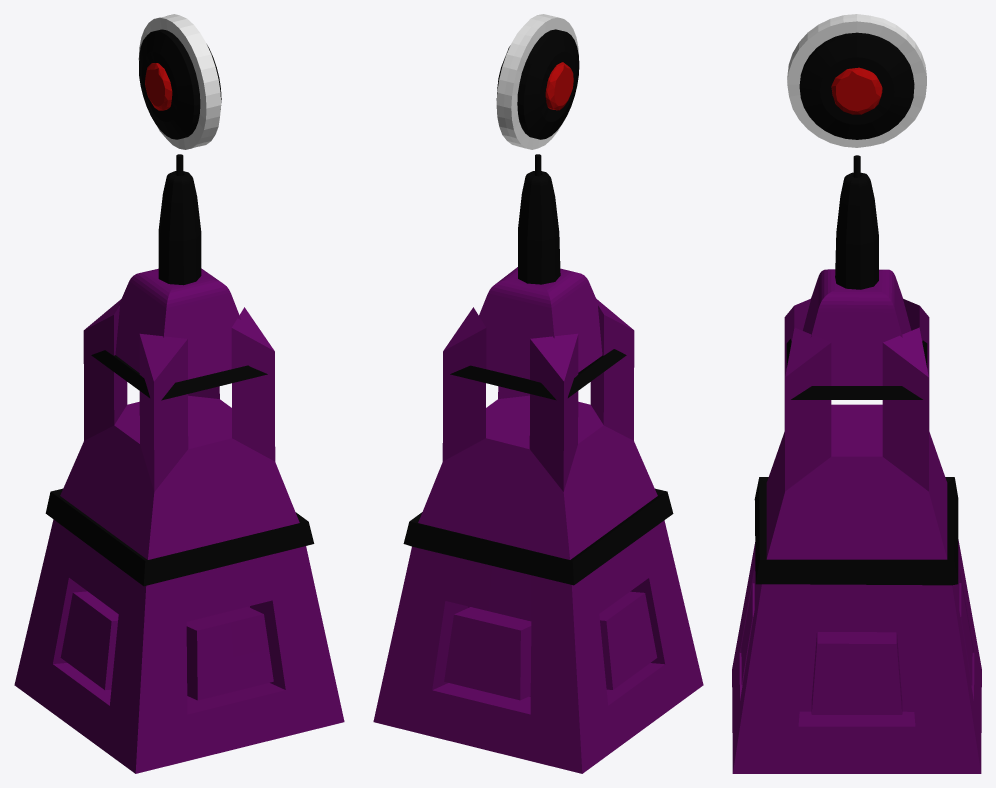
The model's file is Buffer Tower.fbx.
The picture shows the model from 3 angles, left to right: view 1: azimuth 30°, elevation 25°; view 2: azimuth 150°, elevation 25°; view 3: azimuth 270°, elevation 25°; orthographic projection. The views are drawn at different scales.
Parts seen in each view (by area): view 1: bottm, Eye; view 2: bottm, Eye; view 3: bottm, Eye.
Part boxes in pixels (x1,y1,x2,y2): bottm: (14, 154, 344, 773); Eye: (138, 14, 221, 149); bottm: (373, 154, 703, 773); Eye: (496, 14, 579, 149); bottm: (732, 155, 981, 773); Eye: (787, 14, 926, 147).
Bounding box in the file's own units: 399 × 1244 × 400.
